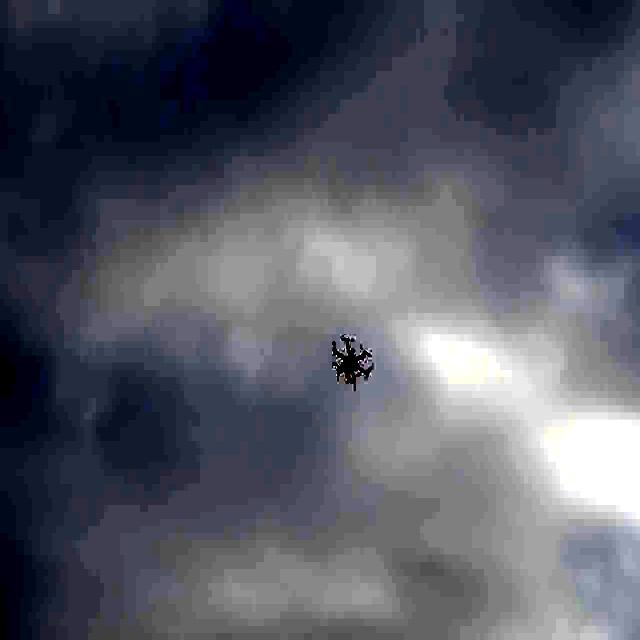drone: (328, 332, 374, 392)
